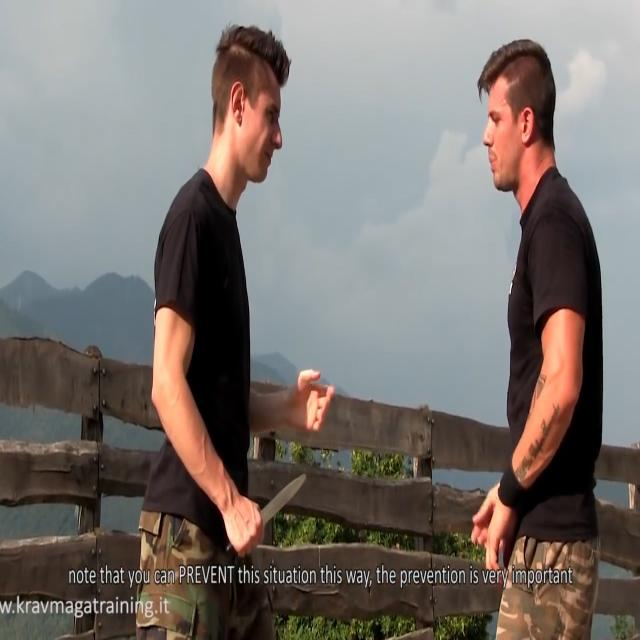knife: (224, 472, 306, 562)
